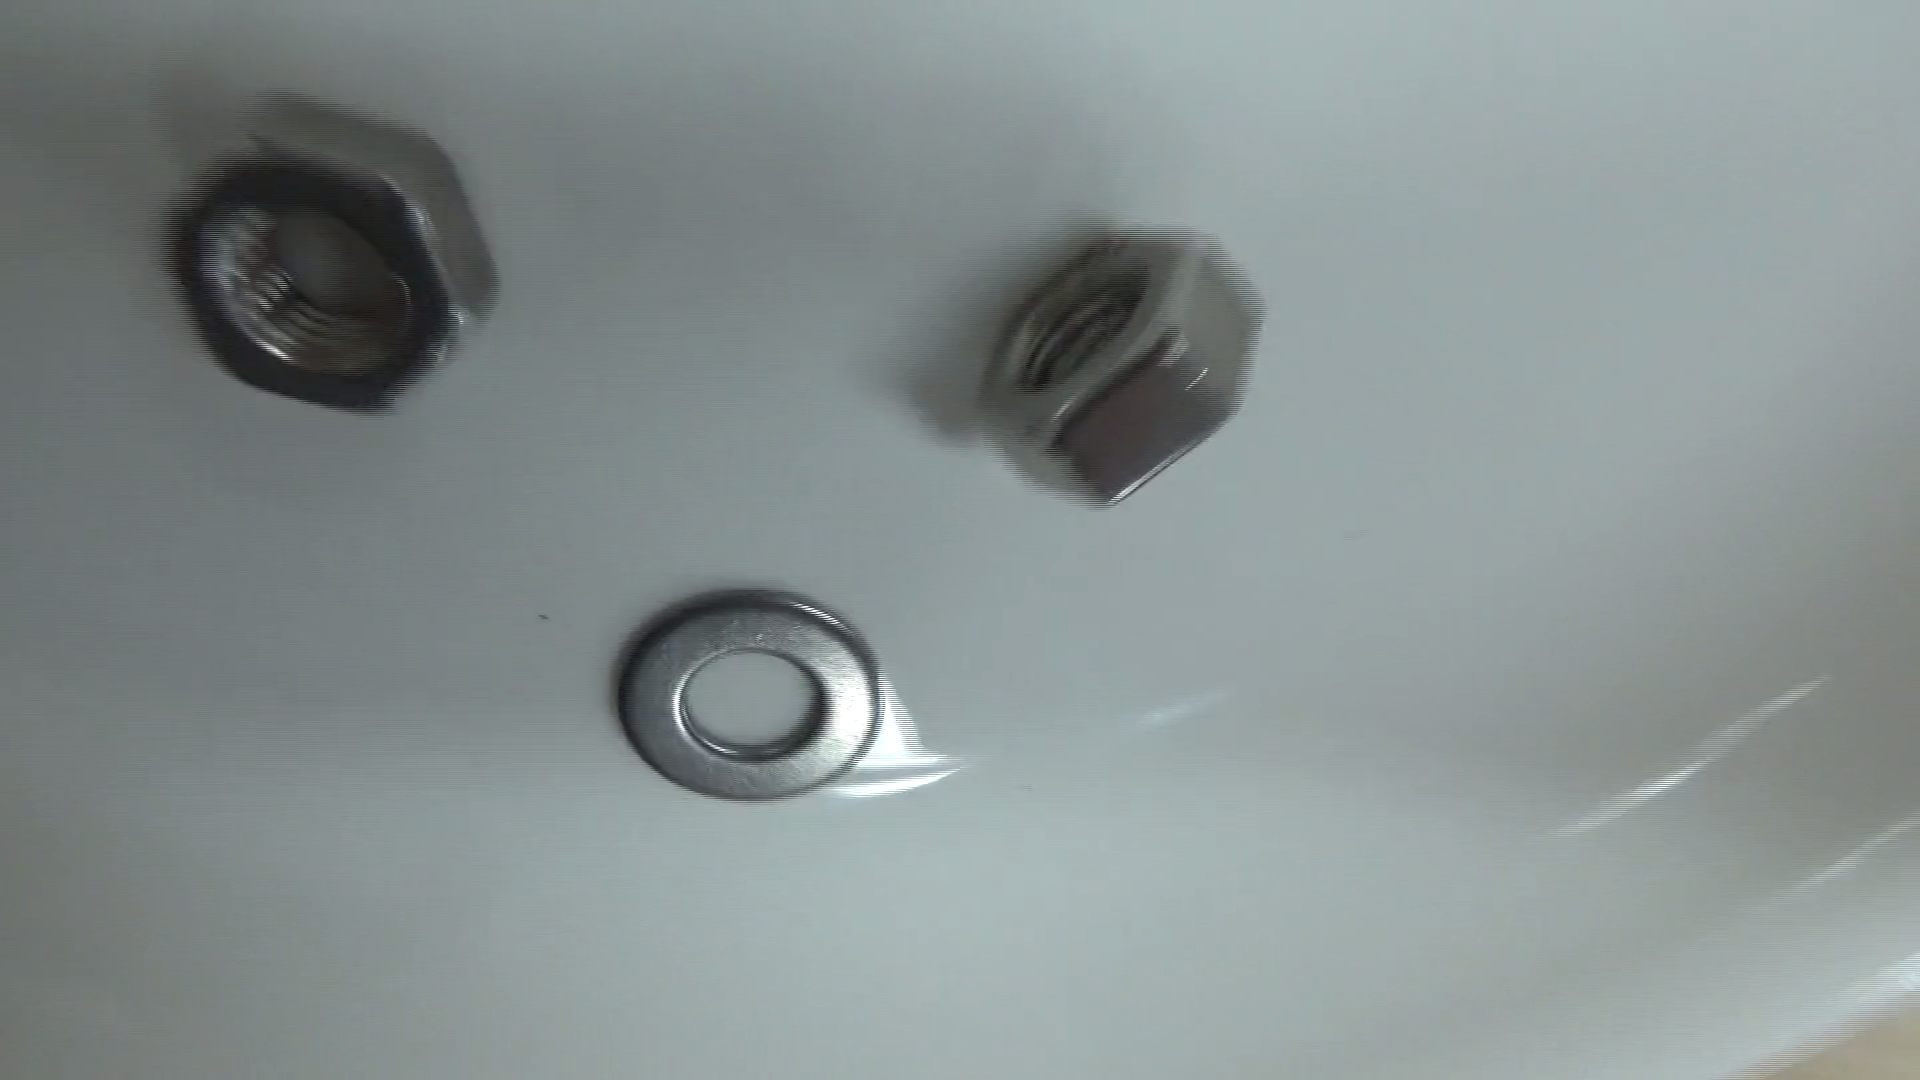nut: (146, 90, 512, 433), (964, 214, 1266, 516)
washer: (603, 554, 905, 843)
